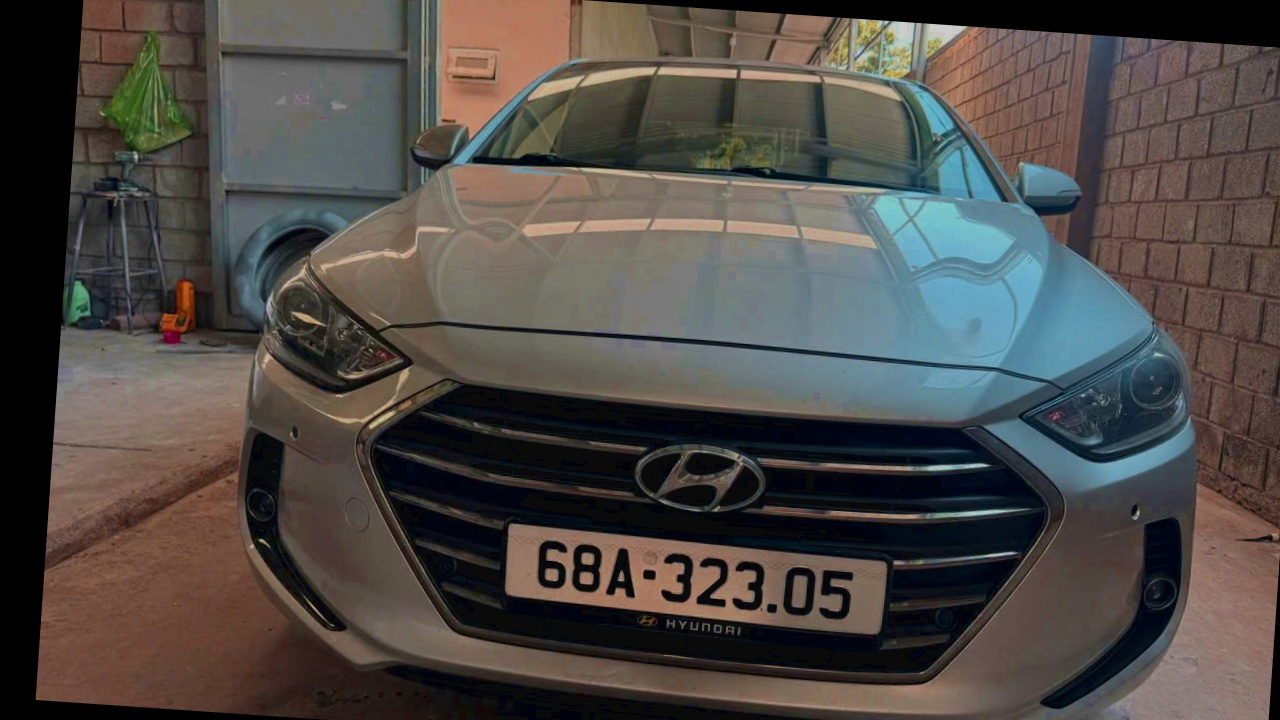Bien-so: (500, 531, 884, 642)
